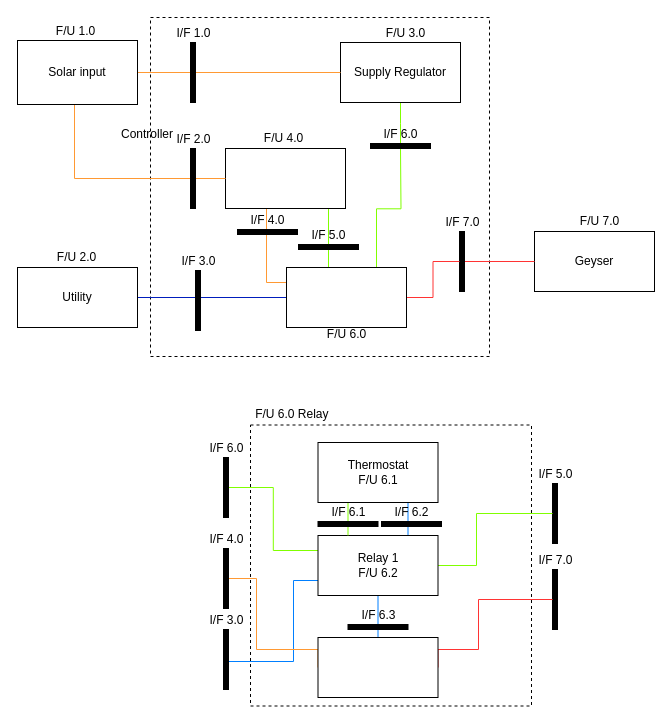
Some shapes in this 672 by 724 pixel diagram are drawn without their labels. Here are the shapes that lost their labels. From the top down, the box of each, then its label:
(224, 148, 346, 208): Solid State Switch
(286, 266, 406, 328): Relays
(317, 636, 438, 698): Relay 2 F/U 6.3
